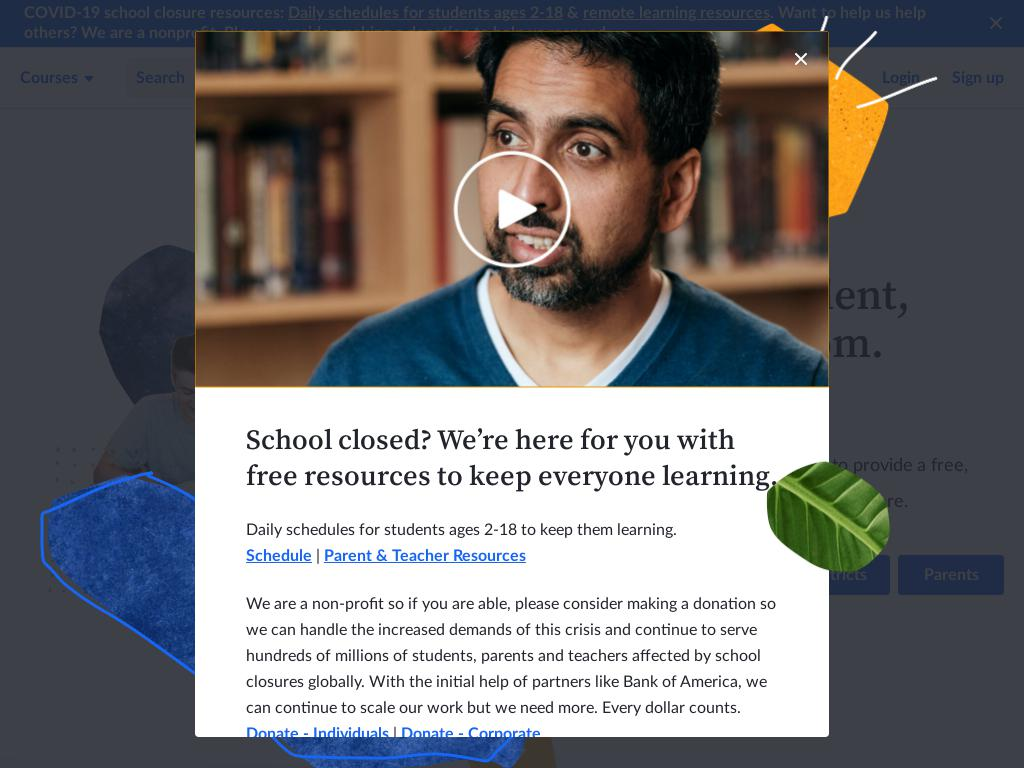button: (195, 30, 829, 388), (126, 58, 326, 98), (288, 3, 563, 23), (556, 555, 662, 595), (670, 555, 776, 595), (784, 555, 890, 595), (898, 555, 1004, 595), (583, 3, 770, 23), (781, 38, 821, 79), (976, 3, 1016, 43), (407, 23, 470, 43)
heading: (556, 270, 910, 323), (556, 318, 884, 371), (651, 366, 795, 419), (556, 366, 641, 419)
image: (0, 408, 1024, 768), (613, 0, 945, 768), (195, 30, 829, 388), (747, 440, 909, 592), (789, 46, 813, 71), (984, 11, 1008, 35)
link: (324, 548, 526, 565), (797, 48, 850, 108), (952, 48, 1004, 108), (246, 726, 389, 743), (401, 726, 541, 743), (882, 48, 920, 108), (246, 548, 312, 565)
text: (246, 591, 778, 722), (246, 423, 778, 496), (24, 5, 926, 41), (556, 457, 968, 511), (246, 517, 778, 544), (288, 3, 563, 23), (24, 5, 288, 21), (583, 3, 770, 23), (136, 68, 296, 88), (470, 25, 610, 41), (691, 565, 755, 585), (407, 23, 470, 43), (578, 565, 640, 585), (807, 565, 867, 585), (923, 565, 979, 585), (20, 70, 78, 86), (563, 5, 583, 21), (312, 548, 324, 565), (389, 726, 401, 743)
